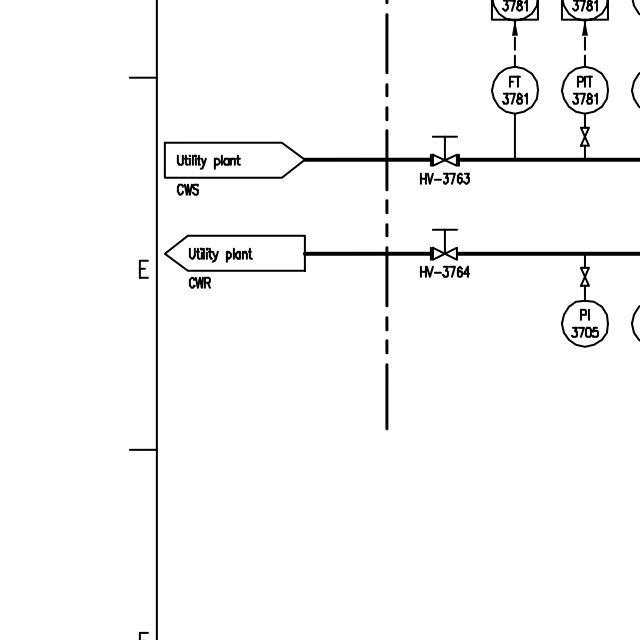GV: (576, 265, 595, 291), (578, 123, 593, 148)
HVWT: (427, 130, 463, 168), (423, 225, 461, 261)
